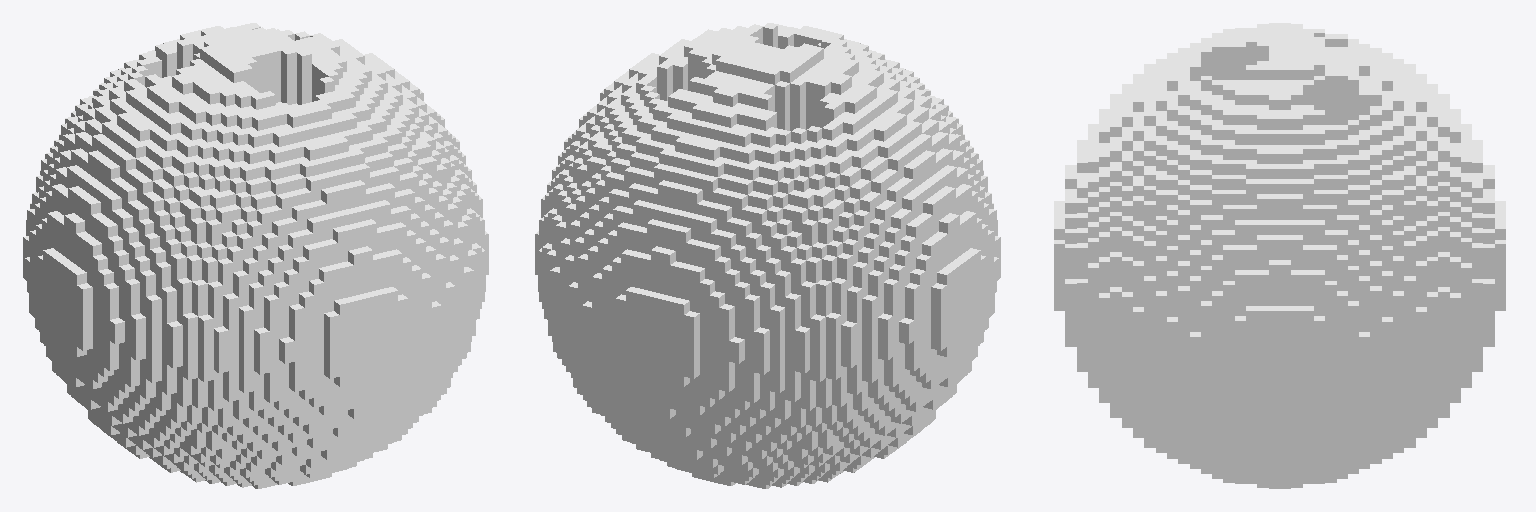
Rendered from BowlingBall.obj.
3 renders of one model, left to right at view 1: azimuth 30°, elevation 25°; view 2: azimuth 150°, elevation 25°; view 3: azimuth 270°, elevation 25°, orthographic.
Visible parts, largest first — view 1: BowlingBall; view 2: BowlingBall; view 3: BowlingBall.
Boxes of the visible parts, box(x1,y1,x2,y2) form: BowlingBall: box(23, 23, 488, 488); BowlingBall: box(535, 23, 1000, 488); BowlingBall: box(1054, 23, 1505, 488).
Bounding box in the file's own units: 40 × 40 × 40.